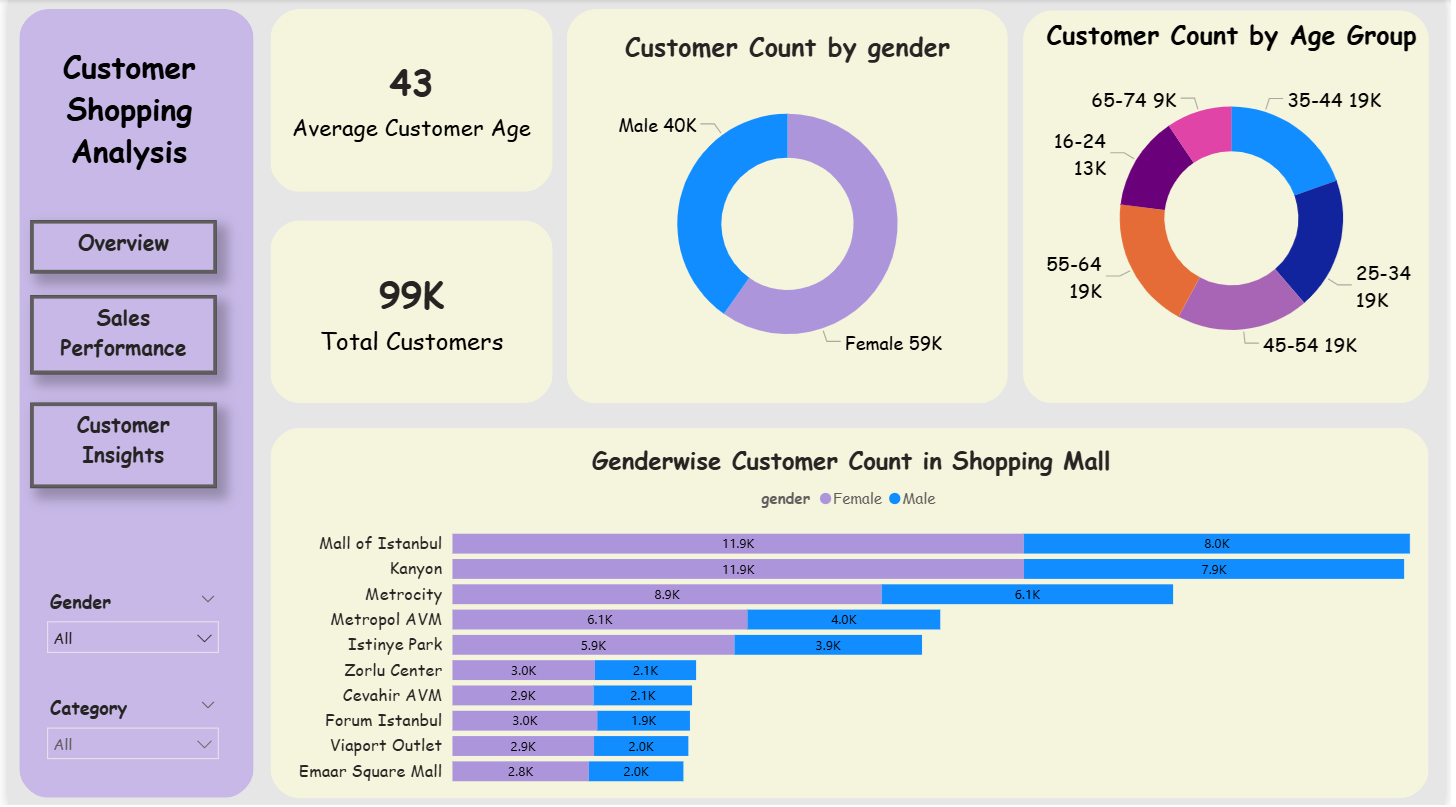

What the dashboard file says about the page in this screenshot:
{"tool":"powerbi","page":{"name":"Customer Insights","canvas":[1280,720],"ordinal":2},"visuals":[{"type":"shape","box":[10,8.8,208.8,702.5],"z":0},{"type":"textbox","box":[20,35.7,175.7,137.1],"z":1000},{"type":"shape","box":[234.3,8.6,251.4,162.9],"z":2000},{"type":"card","fields":{"Values":["customer_shopping_data.Average Customer Age"]},"box":[245.7,15.7,227.1,145.7],"z":3000},{"type":"shape","box":[234.3,197.1,251.4,162.9],"z":4000},{"type":"card","fields":{"Values":["Measures .Total Customers"]},"box":[245.7,211.4,227.1,132.9],"z":5000},{"type":"shape","box":[234.3,381.4,1031.4,330],"z":6000},{"type":"shape","box":[497.1,8.6,392.9,351.4],"z":7000},{"type":"shape","box":[904.3,10,361.4,350],"z":8000},{"type":"donutChart","title":"Customer Count  by gender","fields":{"Y":["Measures .Total Customers"],"Category":["customer_shopping_data.gender"]},"box":[514.3,25.7,360,318.6],"z":9000},{"type":"donutChart","title":"Customer Count by Age Group","fields":{"Y":["Measures .Total Customers"],"Category":["customer_shopping_data.Age Group"]},"box":[914.3,15.7,351.4,328.6],"z":10000},{"type":"barChart","title":"Genderwise Customer Count in Shopping Mall","fields":{"Y":["Measures .Total Customers"],"Category":["customer_shopping_data.shopping_mall"],"Series":["customer_shopping_data.gender"]},"box":[245.7,395.7,1010,315.7],"z":11000},{"type":"textbox","box":[20,197.1,165.7,47.1],"z":12000},{"type":"textbox","box":[20,264.3,165.7,70],"z":13000},{"type":"textbox","box":[20,360,165.7,75.7],"z":14000},{"type":"actionButton","box":[20,197.1,165.7,47.1],"z":15000},{"type":"actionButton","box":[20,264.3,165.7,70],"z":16000},{"type":"actionButton","box":[20,360,165.7,75.7],"z":17000},{"type":"slicer","fields":{"Values":["customer_shopping_data.category"]},"box":[24.3,614.3,172.9,84.3],"z":20000},{"type":"slicer","fields":{"Values":["customer_shopping_data.gender"]},"box":[24.3,520,172.9,77.1],"z":21000}]}

Visuals, with their boxes in screenshot pixels (x1, y1, x2, y2), scaled from the page's 1280x720 canvas onto the 1456x807 screenshot:
shape: locate(11, 10, 249, 797)
textbox: locate(23, 40, 223, 194)
shape: locate(267, 10, 552, 192)
card - customer_shopping_data.Average Customer Age: locate(279, 18, 538, 181)
shape: locate(267, 221, 552, 404)
card - Measures .Total Customers: locate(279, 237, 538, 386)
shape: locate(267, 427, 1440, 797)
shape: locate(565, 10, 1012, 404)
shape: locate(1029, 11, 1440, 404)
"Customer Count  by gender" donutChart: locate(585, 29, 995, 386)
"Customer Count by Age Group" donutChart: locate(1040, 18, 1440, 386)
"Genderwise Customer Count in Shopping Mall" barChart: locate(279, 444, 1428, 797)
textbox: locate(23, 221, 211, 274)
textbox: locate(23, 296, 211, 375)
textbox: locate(23, 404, 211, 488)
actionButton: locate(23, 221, 211, 274)
actionButton: locate(23, 296, 211, 375)
actionButton: locate(23, 404, 211, 488)
slicer - customer_shopping_data.category: locate(28, 689, 224, 783)
slicer - customer_shopping_data.gender: locate(28, 583, 224, 669)
